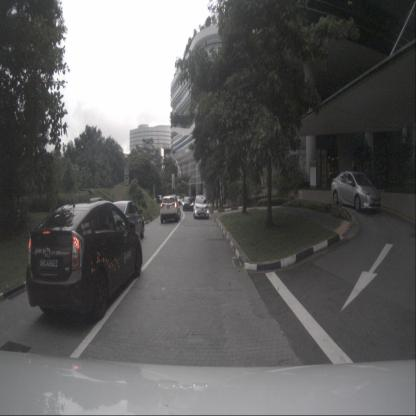vehicle-car: (26, 196, 142, 322), (331, 171, 382, 211), (102, 200, 144, 240), (160, 195, 181, 224), (193, 195, 209, 219), (182, 196, 194, 212), (173, 196, 182, 206), (157, 195, 163, 204)
